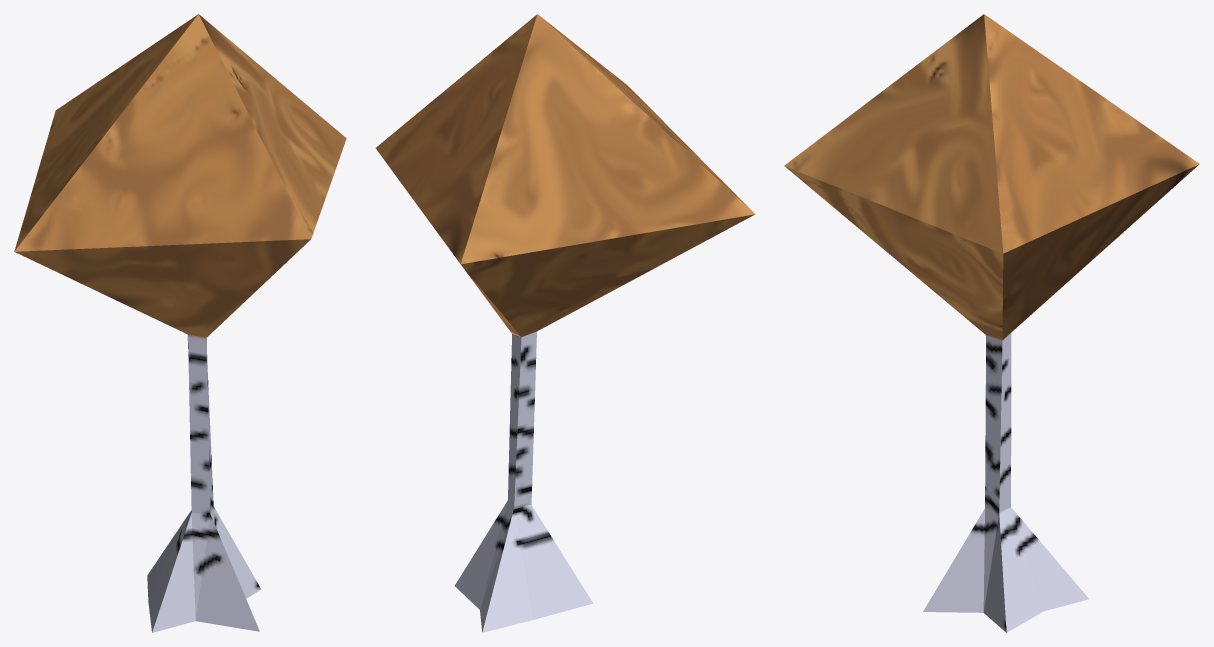
The model's file is Birch_tree_FIRST_TRY_LOL_final.fbx.
3 views of the same model, side by side, from view 1: azimuth 30°, elevation 25°; view 2: azimuth 150°, elevation 25°; view 3: azimuth 270°, elevation 25° (orthographic). The views are drawn at different scales.
Visible parts, largest first — view 1: Cube; view 2: Cube; view 3: Cube.
Part boxes in pixels (box(x1,y1,x2,y2)): Cube: box(14, 14, 346, 632); Cube: box(375, 14, 755, 632); Cube: box(784, 14, 1199, 632).
Bounding box in the file's own units: 4487 × 4386 × 6951.
Materials: 1 (1 with a texture image).
